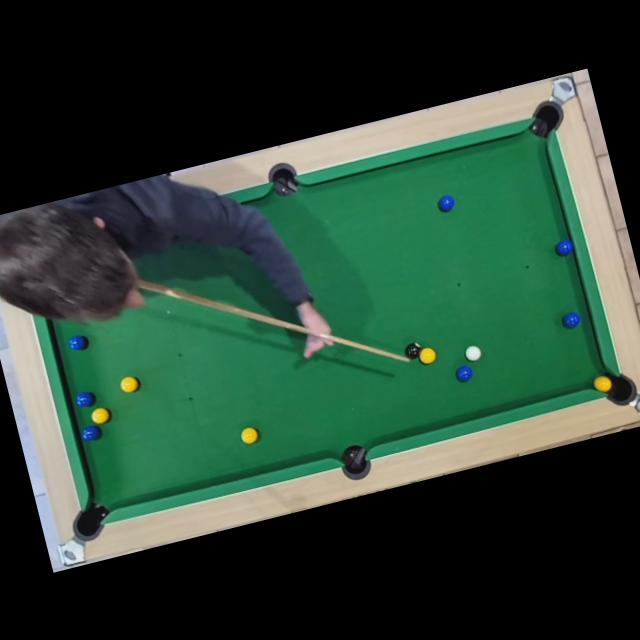Ball: (560, 310, 582, 330), (74, 389, 96, 409), (118, 374, 140, 394), (88, 404, 110, 424), (554, 238, 574, 258), (238, 424, 258, 444), (592, 374, 612, 394), (455, 364, 474, 383), (80, 424, 100, 442), (436, 194, 455, 212), (417, 346, 436, 364), (463, 344, 482, 362), (403, 341, 422, 358), (68, 333, 86, 350)
